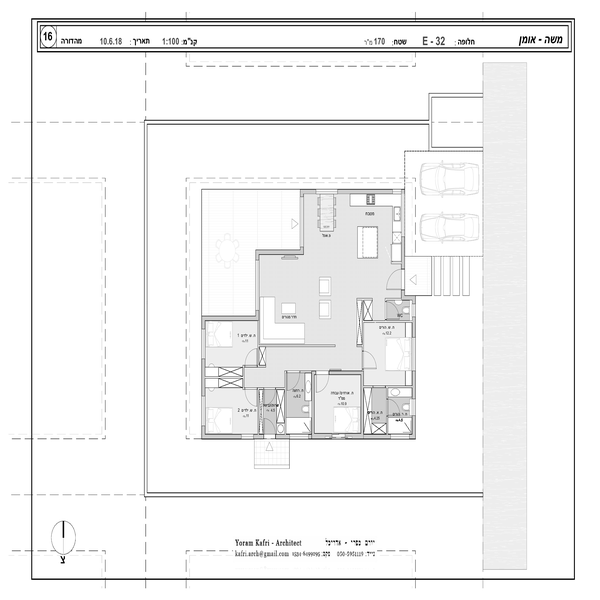door: (357, 351, 384, 373), (385, 388, 405, 416), (384, 270, 407, 294), (245, 349, 260, 366)
room: (252, 246, 420, 326), (299, 184, 408, 265), (196, 313, 264, 441), (354, 366, 420, 439), (311, 367, 364, 443), (278, 362, 316, 442)
wall: (357, 364, 367, 441), (253, 246, 306, 259), (333, 185, 395, 196), (307, 370, 317, 437), (254, 341, 336, 349), (199, 430, 241, 445), (199, 314, 260, 324), (197, 362, 212, 397), (344, 433, 390, 443), (397, 238, 410, 268), (324, 366, 365, 375), (410, 415, 421, 443), (410, 372, 419, 402)
window: (394, 195, 410, 233), (296, 200, 308, 245), (250, 263, 262, 308), (406, 338, 420, 371), (200, 328, 213, 359), (197, 402, 213, 427), (314, 188, 336, 198)
